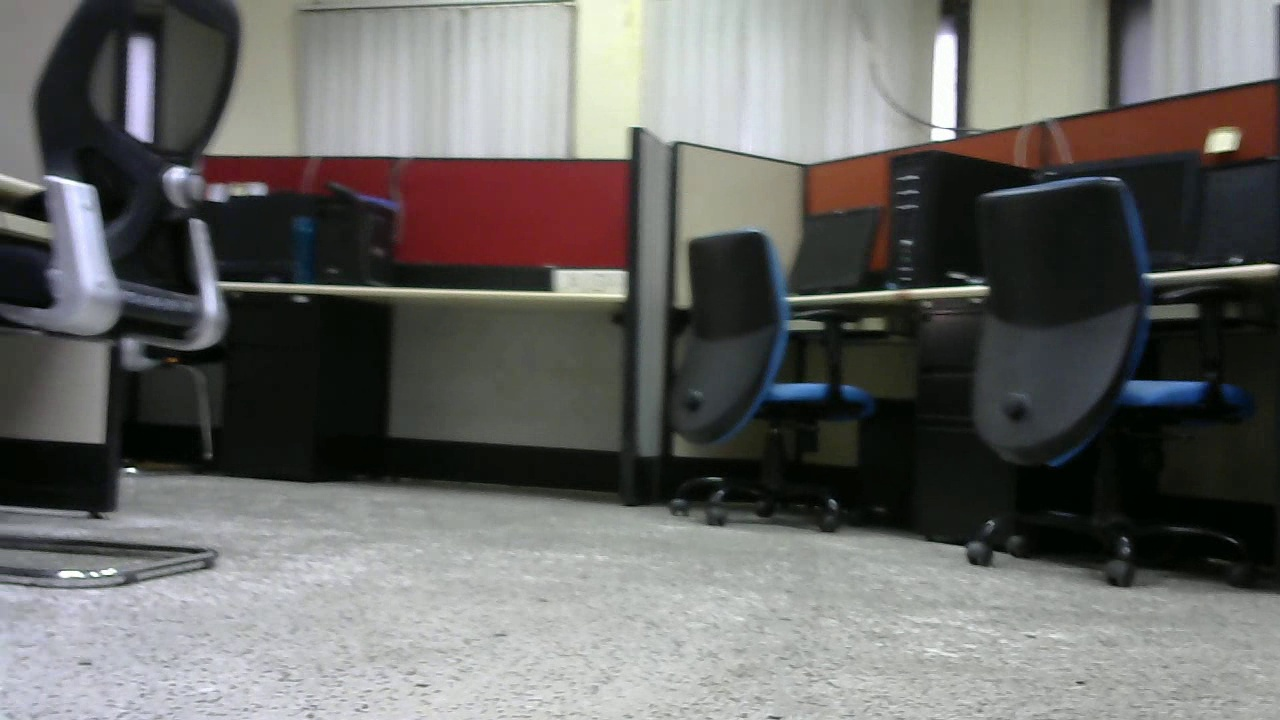chair: (970, 175, 1271, 594), (669, 225, 886, 532)
